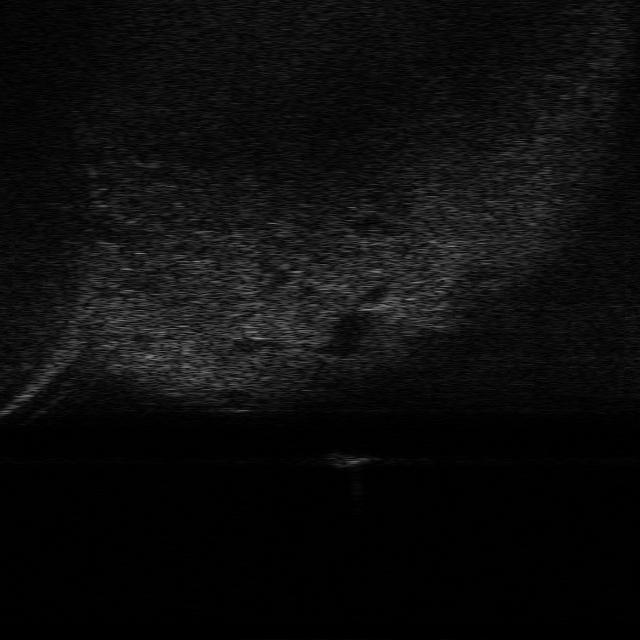cube: (321, 452, 379, 469)
